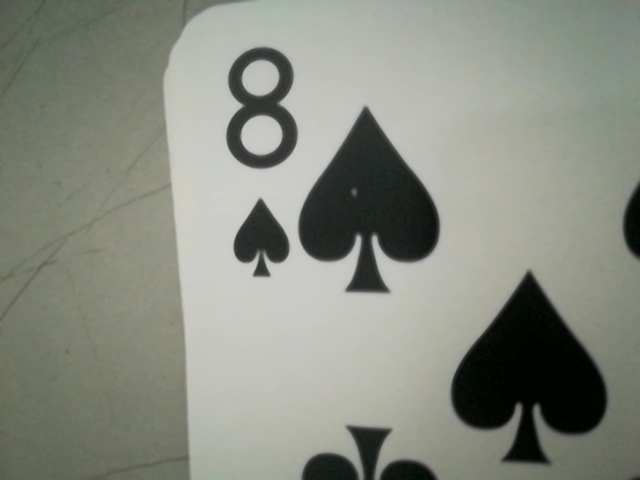ht 8: (201, 14, 318, 274)
